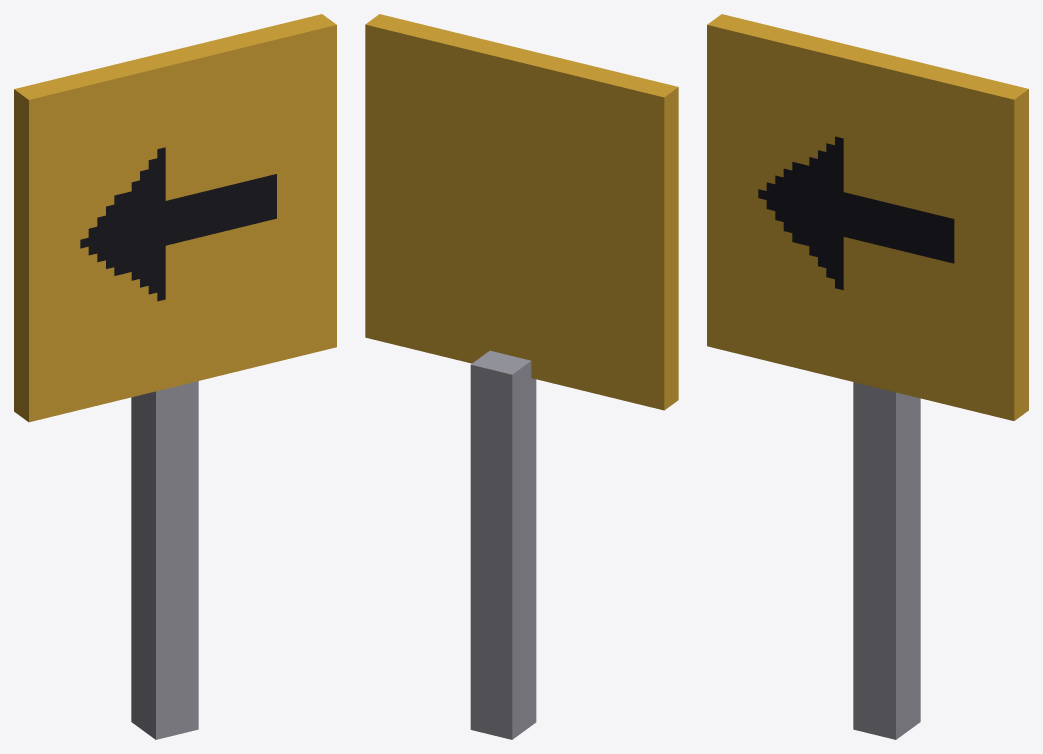
The model's file is sign_left.obj.
The picture shows the model from 3 angles, left to right: view 1: azimuth 30°, elevation 25°; view 2: azimuth 150°, elevation 25°; view 3: azimuth 330°, elevation 25°; orthographic projection. The views are drawn at different scales.
Bounding box in the file's own units: 0.9 × 1.9 × 0.175.
1 material, 1 textured.
